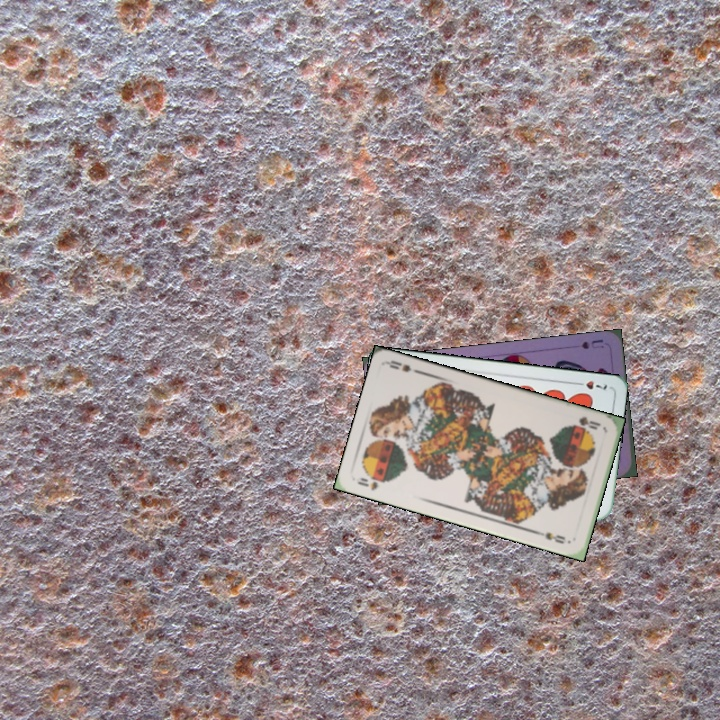H7: (571, 376, 609, 392)
SO: (568, 412, 603, 432), (353, 473, 381, 493)
SU: (577, 335, 607, 352)
